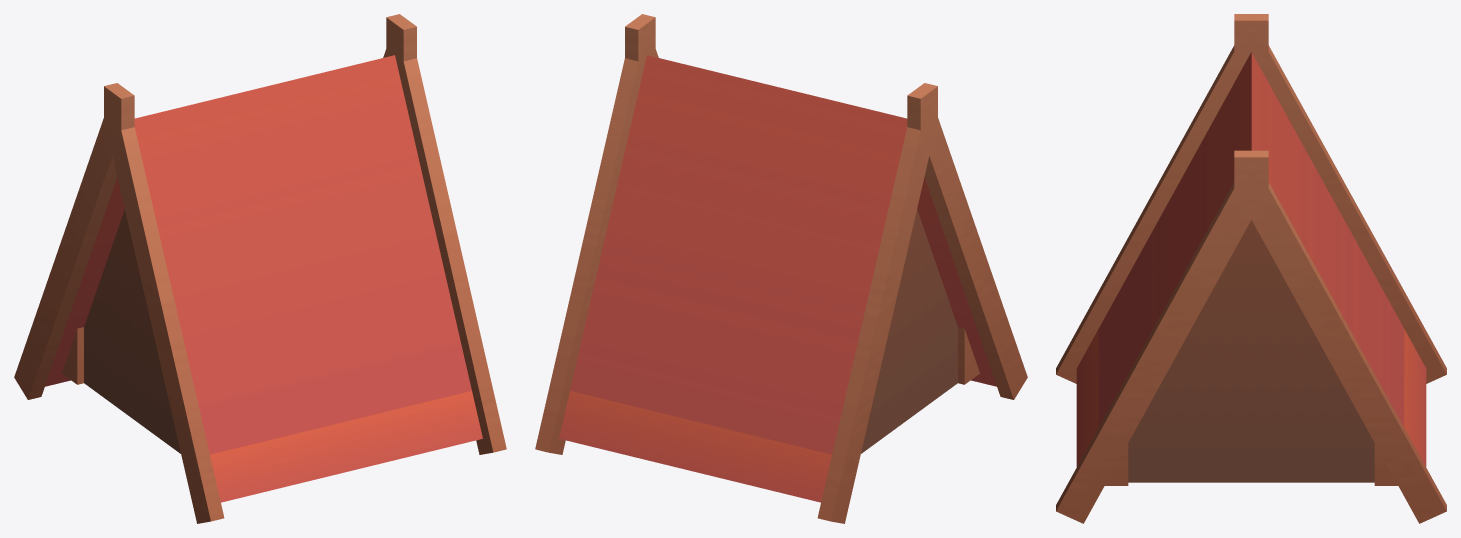
The model's file is roofHighGableDetail.fbx.
The picture shows the model from 3 angles, left to right: view 1: azimuth 30°, elevation 25°; view 2: azimuth 150°, elevation 25°; view 3: azimuth 270°, elevation 25°; orthographic projection.
Visible parts, largest first — view 1: roofHighGableDetail; view 2: roofHighGableDetail; view 3: roofHighGableDetail.
Part boxes in pixels (x1,y1,x2,y2): roofHighGableDetail: (14,14,506,523); roofHighGableDetail: (535,14,1027,523); roofHighGableDetail: (1056,14,1446,523).
Size of the model in its own units: 1.1 by 1.27 by 1.31.
